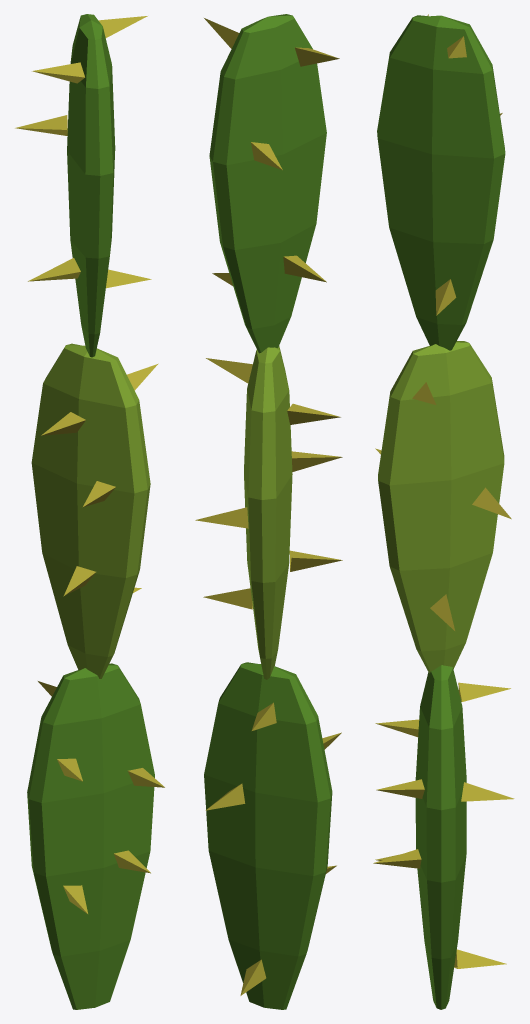
Rendered from Cactus_29_B.fbx.
3 views of the same model, side by side, from view 1: azimuth 30°, elevation 25°; view 2: azimuth 150°, elevation 25°; view 3: azimuth 270°, elevation 25° (orthographic).
Parts seen in each view (by area): view 1: Cactus_29_B; view 2: Cactus_29_B; view 3: Cactus_29_B.
Part boxes in pixels (x1,y1,x2,y2): Cactus_29_B: [15, 14, 164, 1009]; Cactus_29_B: [195, 14, 342, 1009]; Cactus_29_B: [373, 14, 514, 1009].
Bounding box in the file's own units: 41.83 × 302 × 39.58.
